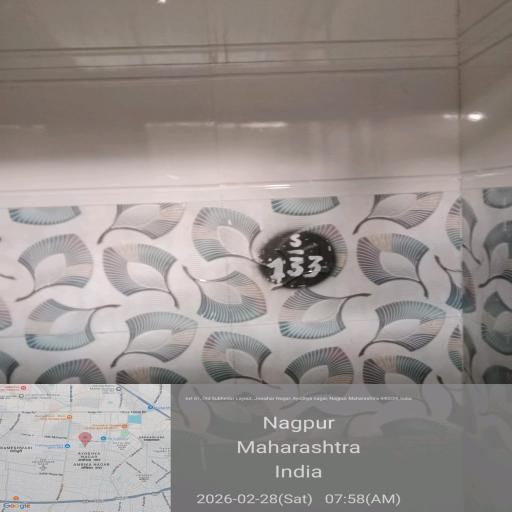clean_floor: (4, 2, 512, 380)
